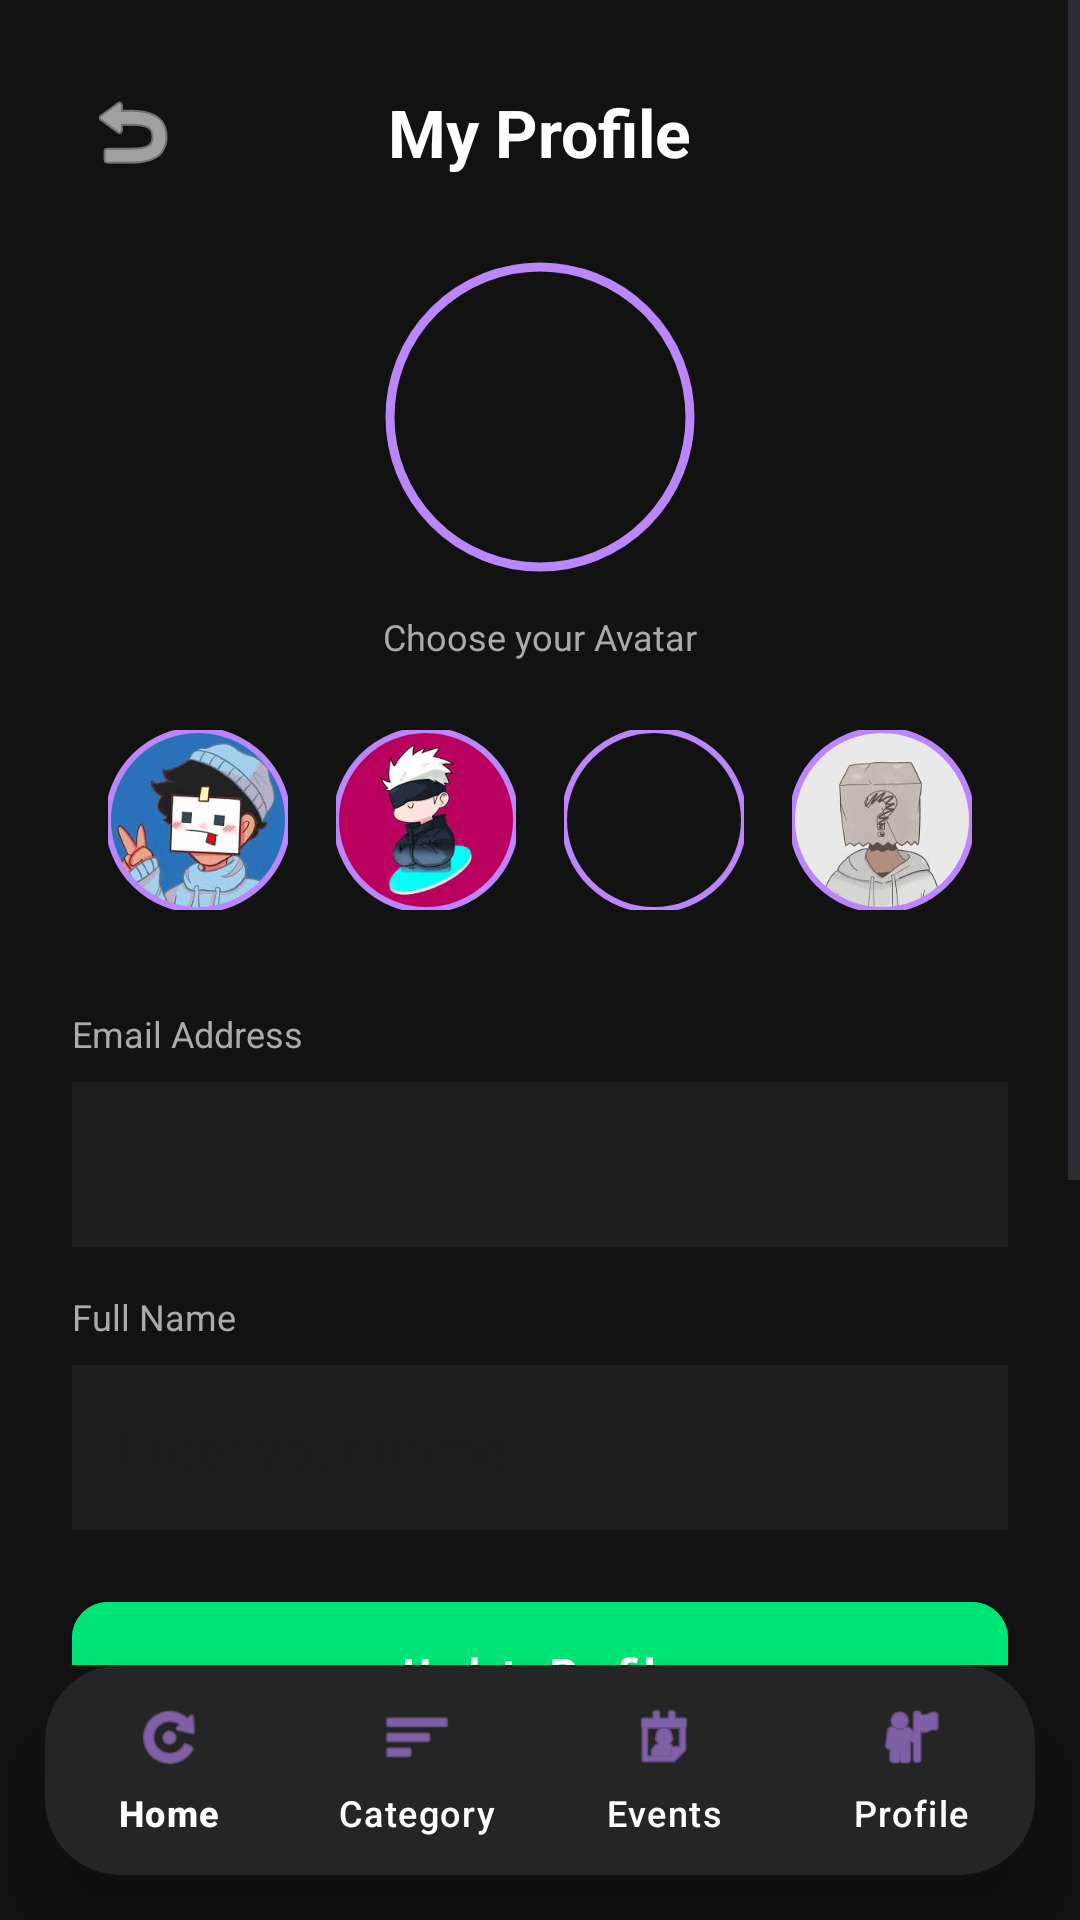

Icon click points for this 1080px x 1920px phone screenshot, format (x,y):
revert: (133,132)
